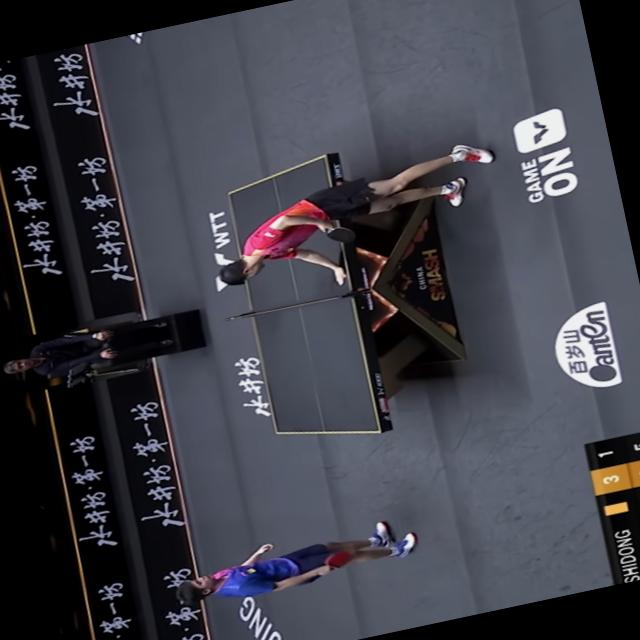TT Net: (221, 288, 355, 325)
TT Racket: (317, 540, 356, 576), (323, 219, 362, 249)
TT Table: (224, 153, 381, 450)
